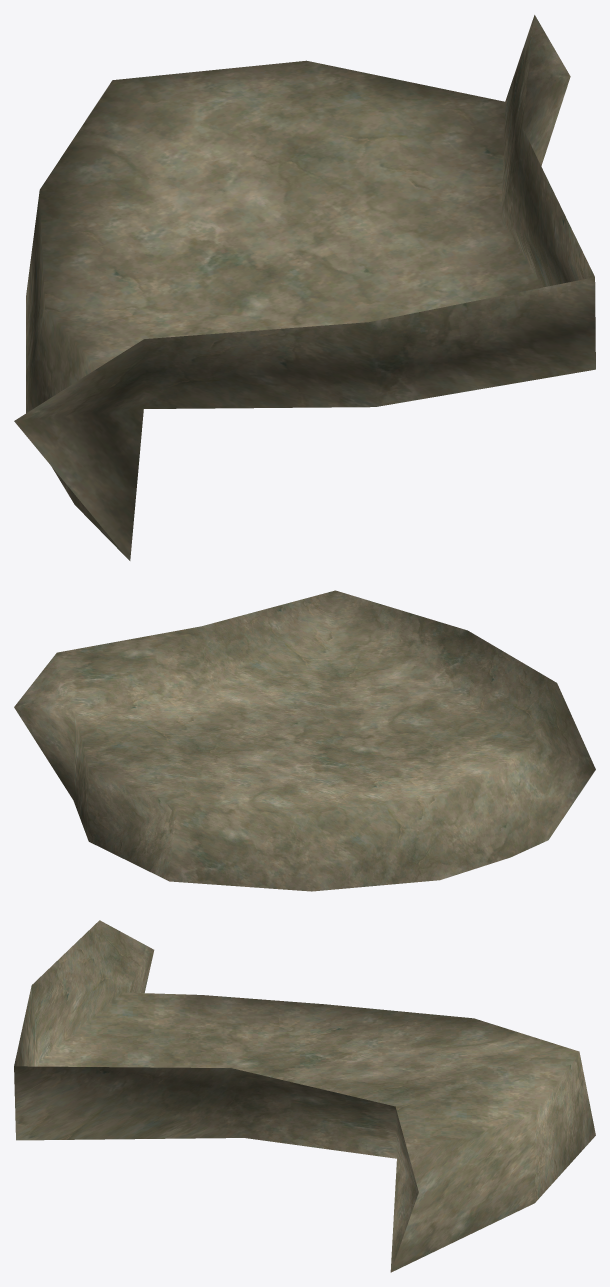
The model's file is EKH_GROTTO_PS_GR_LINE15.fbx.
The picture shows the model from 3 angles, top to bottom: view 1: azimuth 30°, elevation 25°; view 2: azimuth 150°, elevation 25°; view 3: azimuth 270°, elevation 25°; orthographic projection. The views are drawn at different scales.
Parts seen in each view (by area): view 1: EKH_GROTTO_PS_GR_LINE15; view 2: EKH_GROTTO_PS_GR_LINE15; view 3: EKH_GROTTO_PS_GR_LINE15.
Boxes of the visible parts, x1,y1,x2,y2 form: EKH_GROTTO_PS_GR_LINE15: [14, 15, 595, 560]; EKH_GROTTO_PS_GR_LINE15: [14, 590, 595, 891]; EKH_GROTTO_PS_GR_LINE15: [14, 920, 595, 1272].
Size of the model in its own units: 39147 by 14227 by 34860.
Materials: 1 (1 with a texture image).
